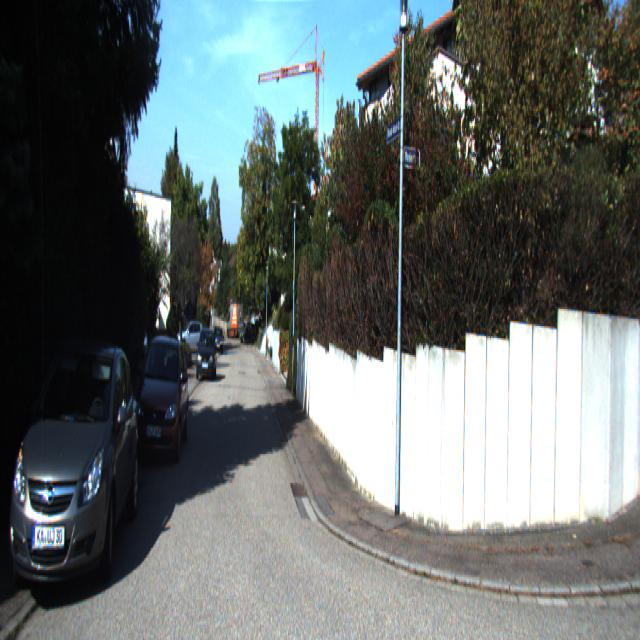Car: (6, 334, 141, 615), (130, 331, 190, 471), (195, 327, 216, 381)
